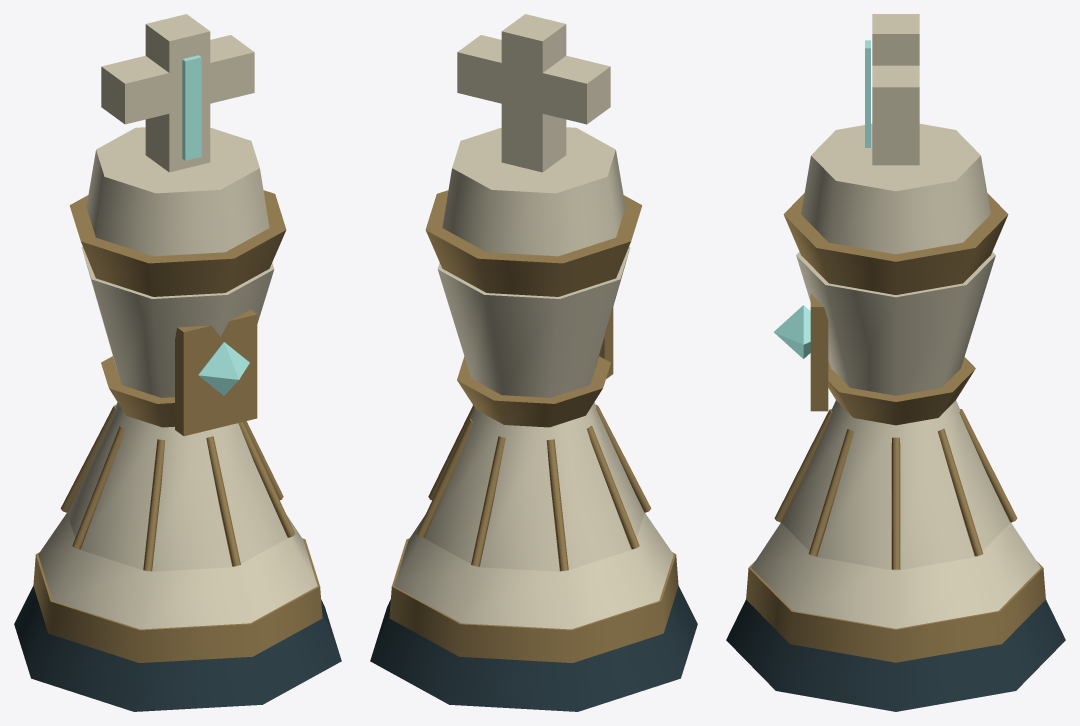
File: king.glb
The picture shows the model from 3 angles, left to right: view 1: azimuth 30°, elevation 25°; view 2: azimuth 150°, elevation 25°; view 3: azimuth 270°, elevation 25°; orthographic projection.
Visible parts, largest first — view 1: stone (×8), cross (×2), royal_seal, engraving (×5), cross_ward, seal_gem; view 2: stone (×8), cross (×2), engraving (×5), royal_seal; view 3: stone (×8), cross (×2), engraving (×5), royal_seal, seal_gem, cross_ward.
Part boxes in pixels (<box>): stone (×8): <box>14,127,341,711</box>; cross (×2): <box>101,14,254,172</box>; royal_seal: <box>175,309,257,436</box>; engraving (×5): <box>60,405,294,571</box>; cross_ward: <box>182,55,201,160</box>; seal_gem: <box>198,342,249,395</box>; stone (×8): <box>370,127,697,711</box>; cross (×2): <box>457,14,610,172</box>; engraving (×5): <box>417,405,651,571</box>; royal_seal: <box>599,307,613,378</box>; stone (×8): <box>726,123,1065,711</box>; cross (×2): <box>872,14,919,165</box>; engraving (×5): <box>774,409,1017,569</box>; royal_seal: <box>810,293,828,411</box>; seal_gem: <box>774,305,810,358</box>; cross_ward: <box>865,40,870,147</box>.
Size of the model in its own units: 0.68 by 1.36 by 0.68.
